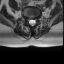CCS_normal: (31, 17, 33, 27)
LFS_severe_stenosis: (35, 16, 38, 21)
LLS_normal: (33, 17, 36, 26)
RFS_severe_stenosis: (25, 16, 28, 22)
RLS_normal: (28, 16, 31, 26)
